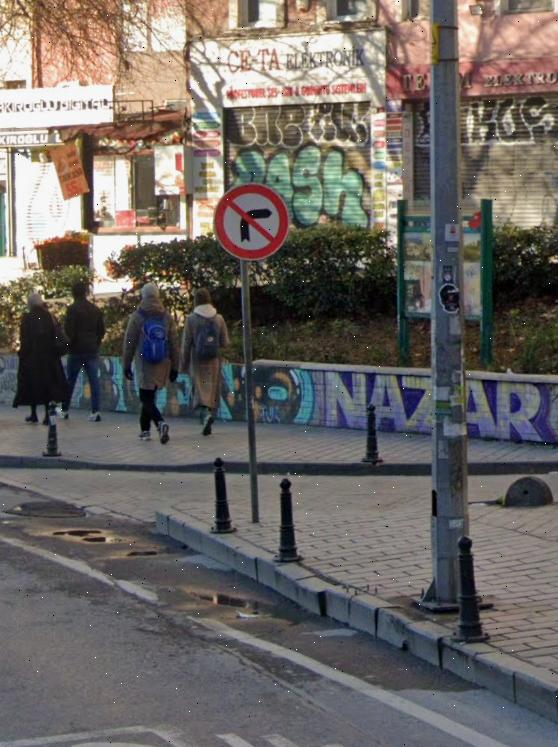rightturnsareforbidden: (210, 177, 294, 264)
